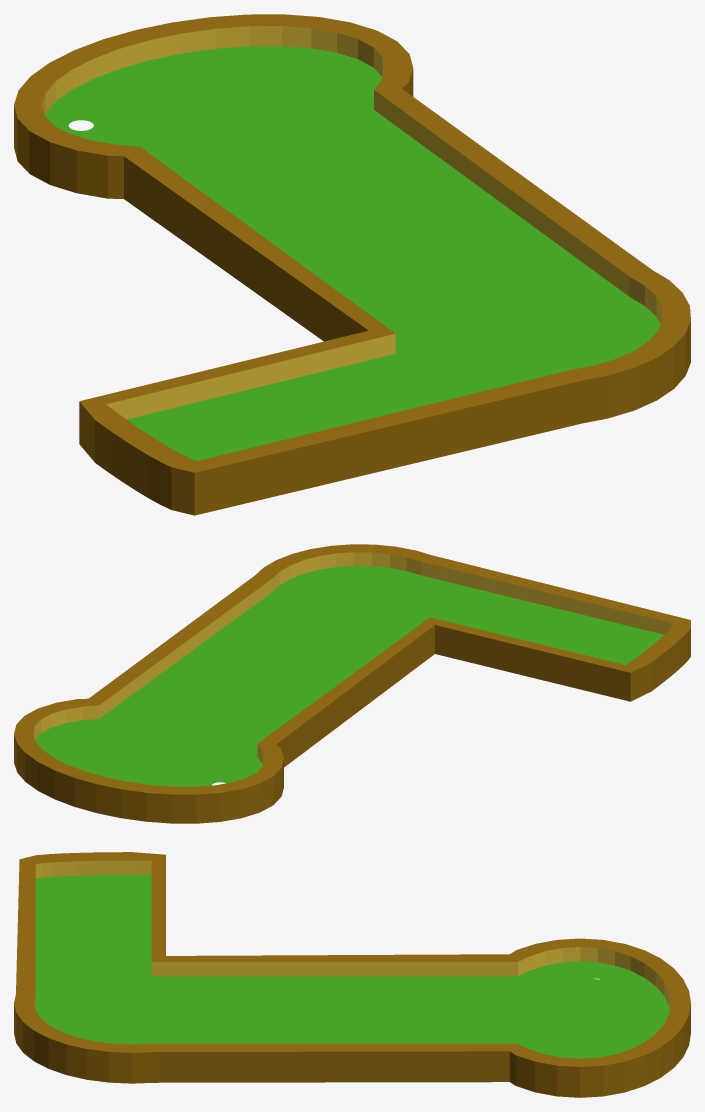
The model's file is playground5.glb.
3 views of the same model, one above another, from view 1: azimuth 30°, elevation 25°; view 2: azimuth 150°, elevation 25°; view 3: azimuth 270°, elevation 25° (orthographic). The views are drawn at different scales.
Parts seen in each view (by area): view 1: Circle; view 2: Circle; view 3: Circle.
Boxes of the visible parts, <box> form: Circle: <box>14,14,690,515</box>; Circle: <box>14,544,690,823</box>; Circle: <box>14,852,690,1097</box>.
Size of the model in its own units: 25.87 by 1.72 by 34.42.
